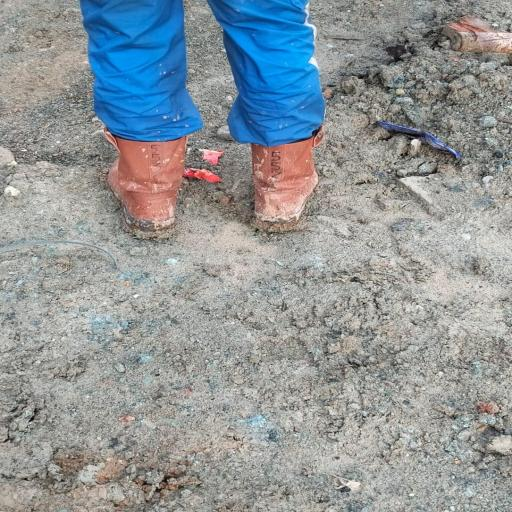safety_shoe: (90, 124, 188, 240), (240, 133, 328, 231)
